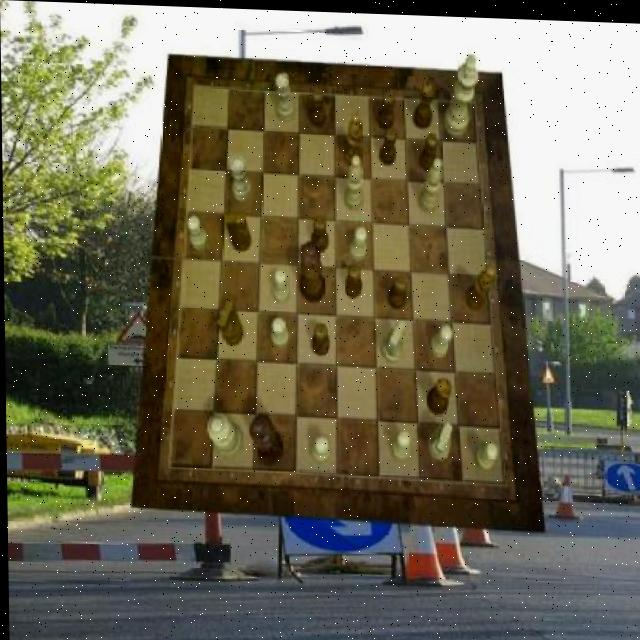bishop: (464, 261, 496, 308), (343, 110, 361, 166)
black-bishop: (249, 412, 284, 465)
black-king: (217, 298, 244, 345), (224, 211, 251, 249)
black-knight: (418, 129, 438, 170), (379, 125, 397, 164), (376, 88, 394, 127), (310, 213, 328, 250), (388, 273, 407, 307), (309, 86, 325, 126), (311, 319, 329, 354), (344, 261, 362, 296)
black-pawn: (300, 239, 326, 302)
black-queen: (413, 78, 436, 126), (426, 374, 453, 412)
black-rook: (419, 154, 442, 210), (343, 151, 363, 208)
white-bishop: (442, 50, 479, 133)
white-king: (380, 317, 405, 362), (426, 418, 453, 459)
white-knight: (428, 321, 451, 356), (188, 214, 209, 249), (474, 438, 498, 467), (349, 222, 367, 257), (391, 427, 411, 458), (272, 267, 289, 302), (271, 315, 289, 347), (309, 433, 329, 460)
white-pawn: (206, 411, 243, 457)
white-queen: (229, 154, 251, 200), (276, 71, 296, 121)
